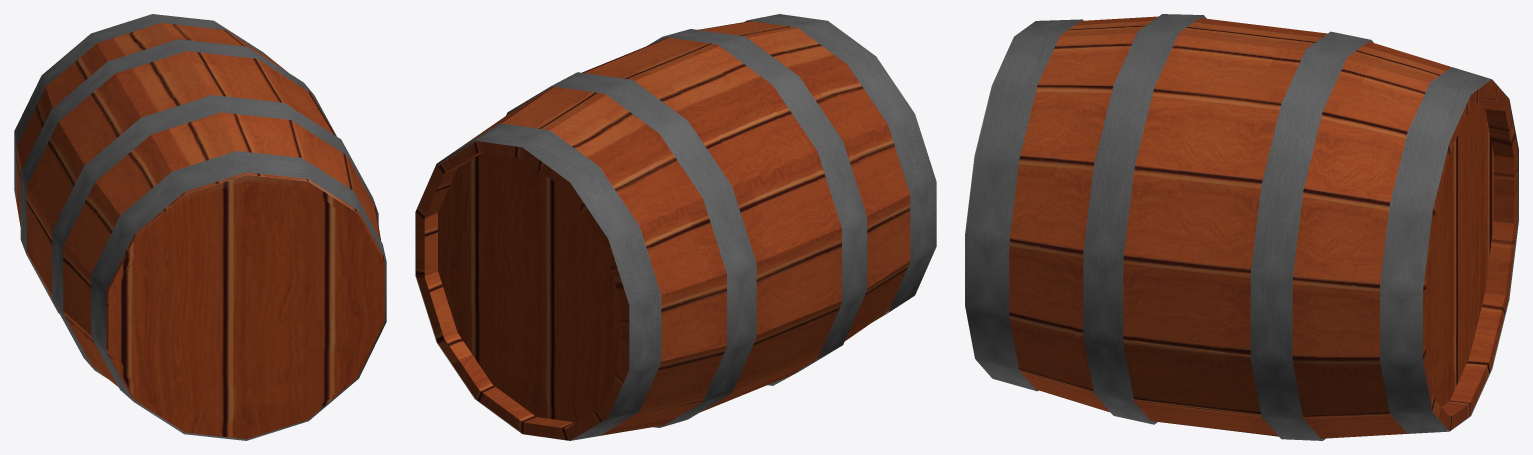
The model's file is barrel.obj.
3 views of the same model, side by side, from view 1: azimuth 30°, elevation 25°; view 2: azimuth 150°, elevation 25°; view 3: azimuth 270°, elevation 25° (orthographic). The views are drawn at different scales.
Parts seen in each view (by area): view 1: BARR_001_Cylinder_004; view 2: BARR_001_Cylinder_004; view 3: BARR_001_Cylinder_004.
Boxes of the visible parts, x1,y1,x2,y2 form: BARR_001_Cylinder_004: (14, 14, 386, 440); BARR_001_Cylinder_004: (415, 14, 936, 440); BARR_001_Cylinder_004: (965, 14, 1518, 440).
Size of the model in its own units: 7.24 by 6.4 by 8.59.
